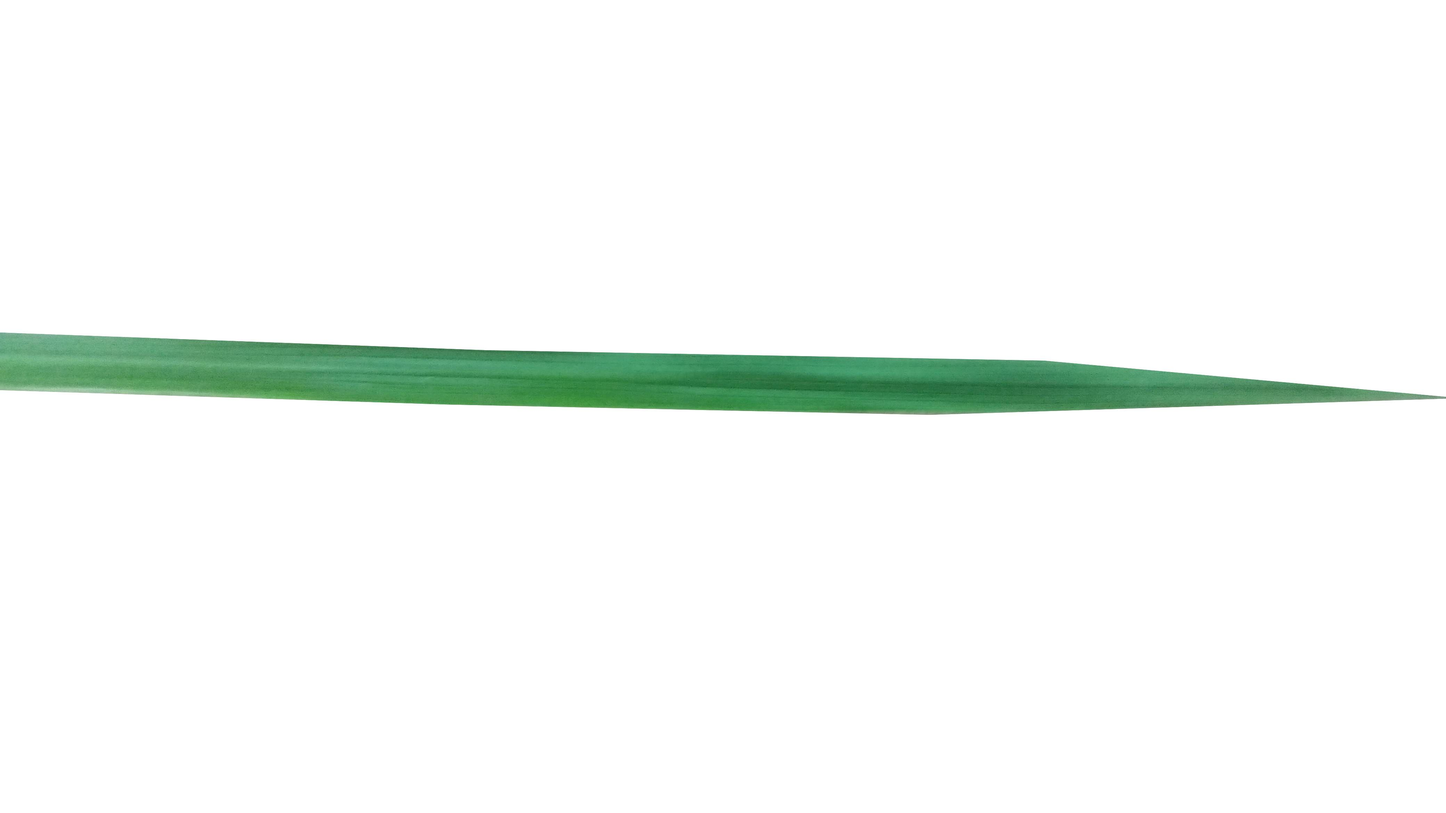Healthy: (0, 333, 1429, 418)
